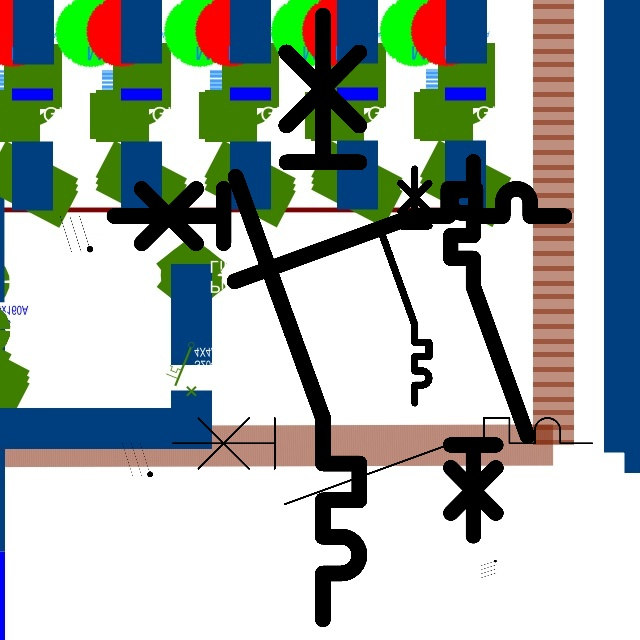interruptor_termomagnetico: (220, 0, 375, 635), (102, 177, 575, 293), (161, 407, 602, 515), (441, 152, 537, 545), (375, 163, 435, 409)
